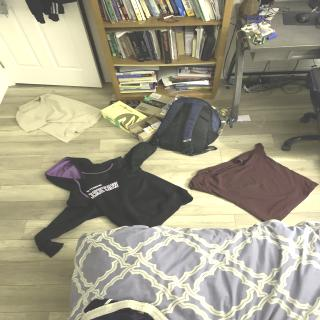Maroon T-Shirt: (195, 143, 318, 224)
Waterloo Hoodie: (16, 148, 190, 228)
Yellow T-Shirt: (9, 90, 105, 143)
